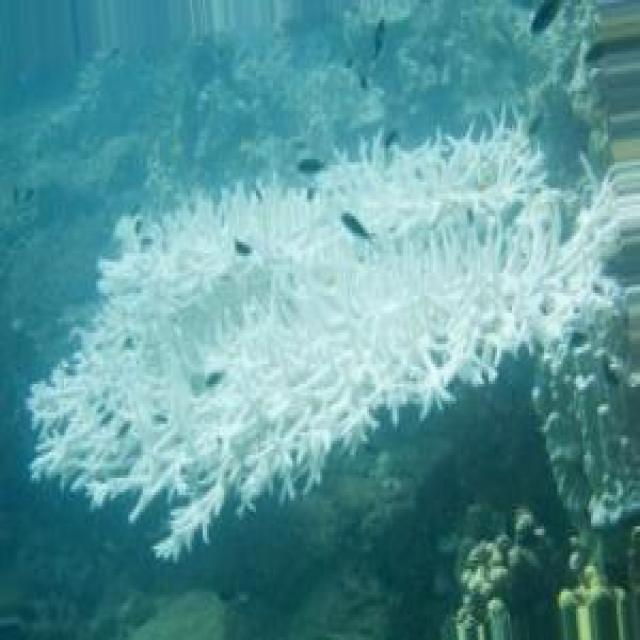bleached coral: (128, 262, 241, 378), (273, 216, 375, 324), (51, 387, 169, 475), (196, 373, 331, 449), (367, 182, 527, 245), (525, 239, 610, 344), (412, 293, 484, 381), (316, 353, 388, 424), (218, 188, 260, 247)
healthy coral: (224, 37, 352, 137), (85, 54, 198, 137), (322, 523, 399, 640), (403, 31, 518, 105), (75, 538, 151, 640), (465, 503, 529, 572)
